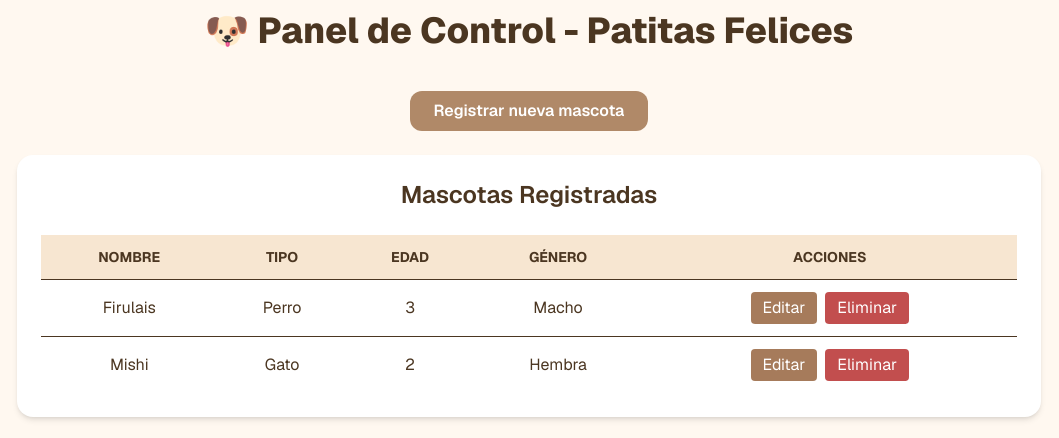
Test: MascotasPage › elimina una mascota tras confirmar y refresca la lista
What coordinates should you click on to do the following:
click the button "Eliminar" in the row of "Firulais"
I would click on:
 (867, 308)
Its box is [825,292,909,324].
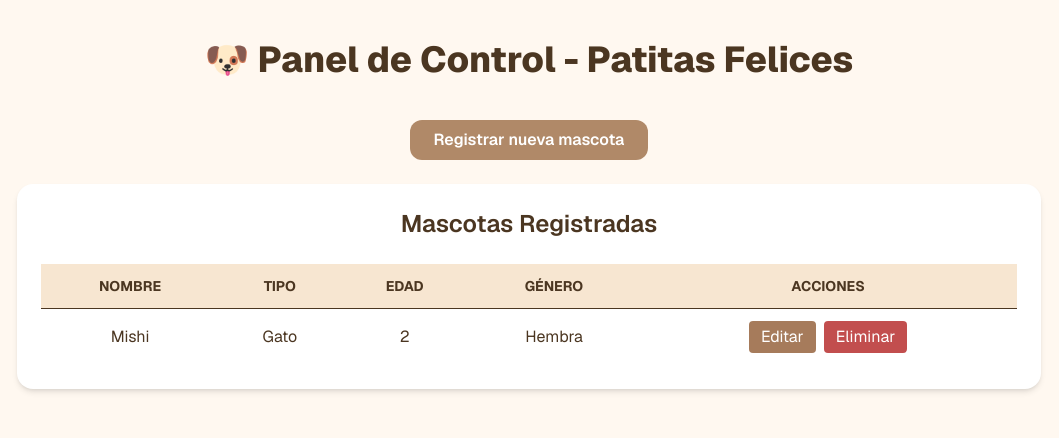
Check: the table is shown, box [41,264,1017,364]
Check: the text "Firulais" is gone
